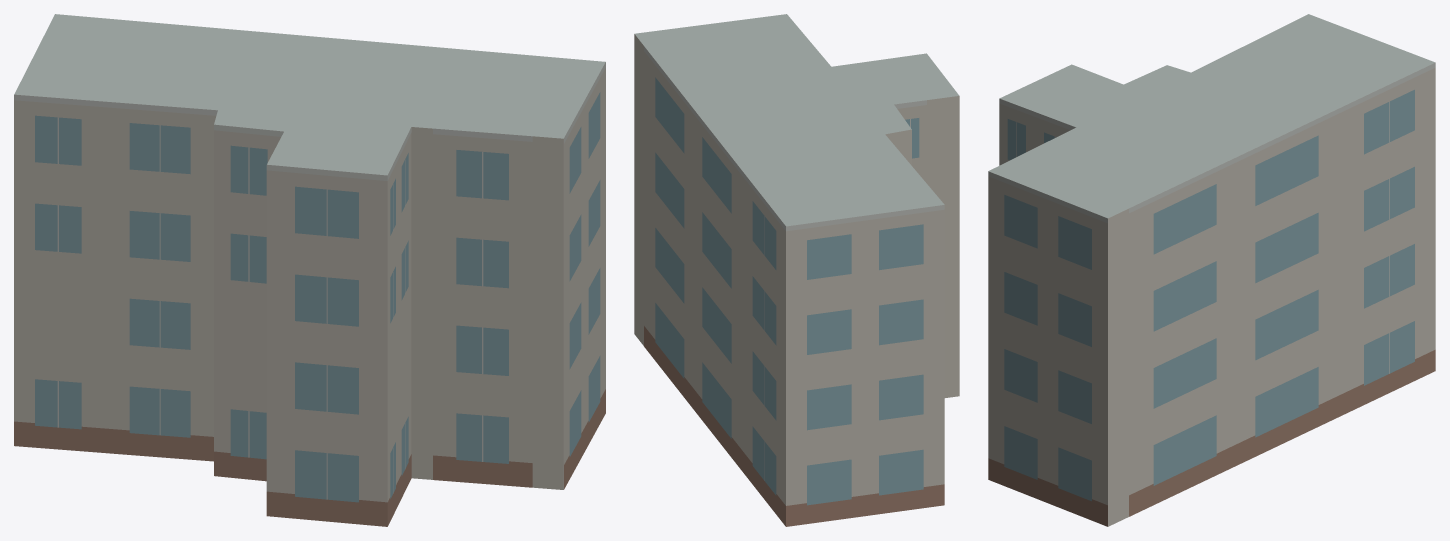
Rendered from survey-upis-32500100.glb.
3 renders of one model, left to right at view 1: azimuth 30°, elevation 25°; view 2: azimuth 150°, elevation 25°; view 3: azimuth 270°, elevation 25°, orthographic. The views are drawn at different scales.
Visible parts, largest first — view 1: survey-upis-32500100.tmp; view 2: survey-upis-32500100.tmp; view 3: survey-upis-32500100.tmp.
Boxes of the visible parts, x1,y1,x2,y2 form: survey-upis-32500100.tmp: (14, 14, 605, 526); survey-upis-32500100.tmp: (634, 14, 959, 526); survey-upis-32500100.tmp: (988, 14, 1435, 526).
Size of the model in its own units: 21.47 by 15.1 by 19.86.
